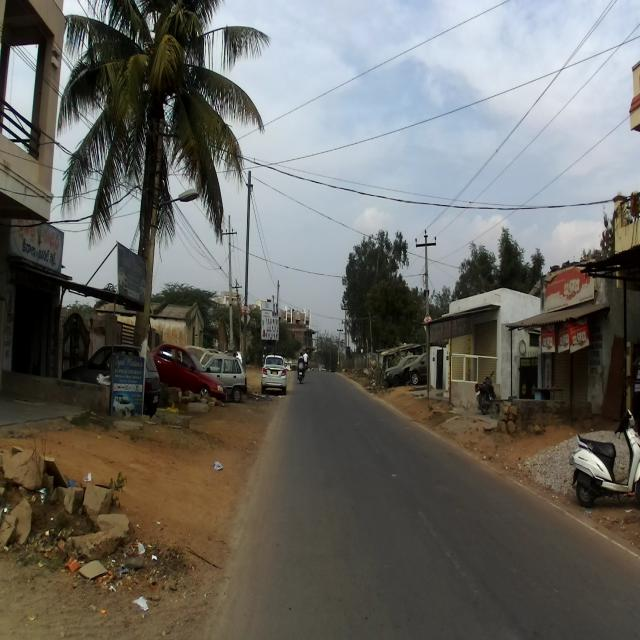motorcycle ahead at: (569, 410, 640, 515)
stones ahead at: (6, 447, 134, 582)
